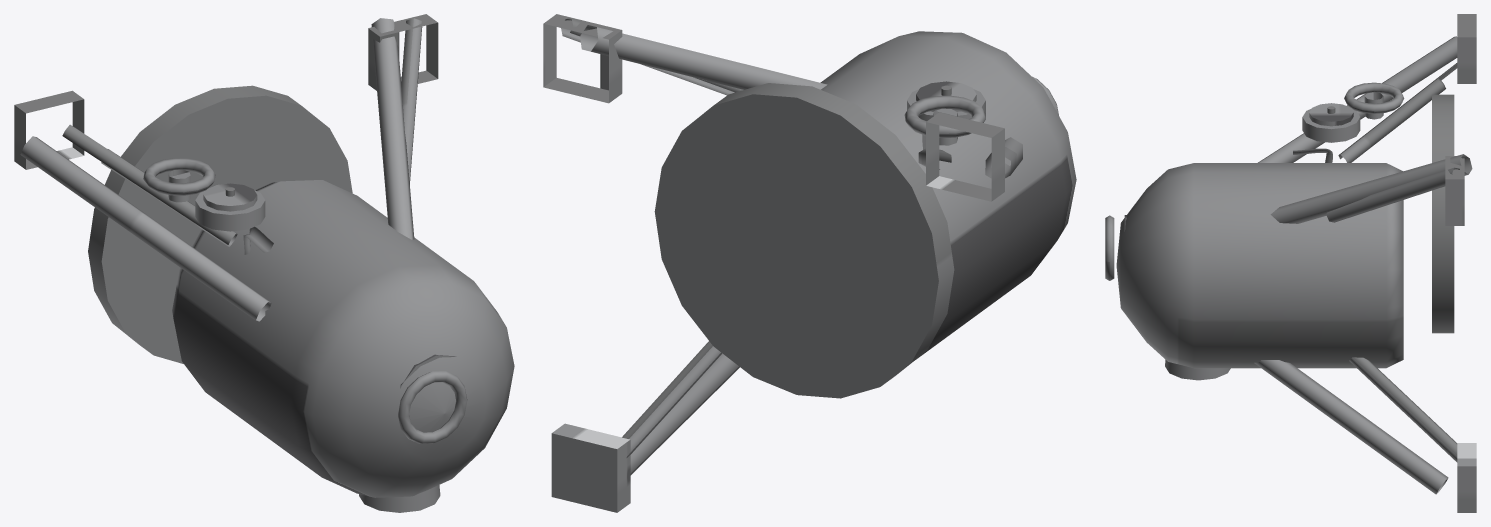
3 renders of one model, left to right at view 1: azimuth 30°, elevation 25°; view 2: azimuth 150°, elevation 25°; view 3: azimuth 270°, elevation 25°, orthographic. The views are drawn at different scales.
Bounding box in the file's own units: 0.9871 × 0.9631 × 0.9368.
